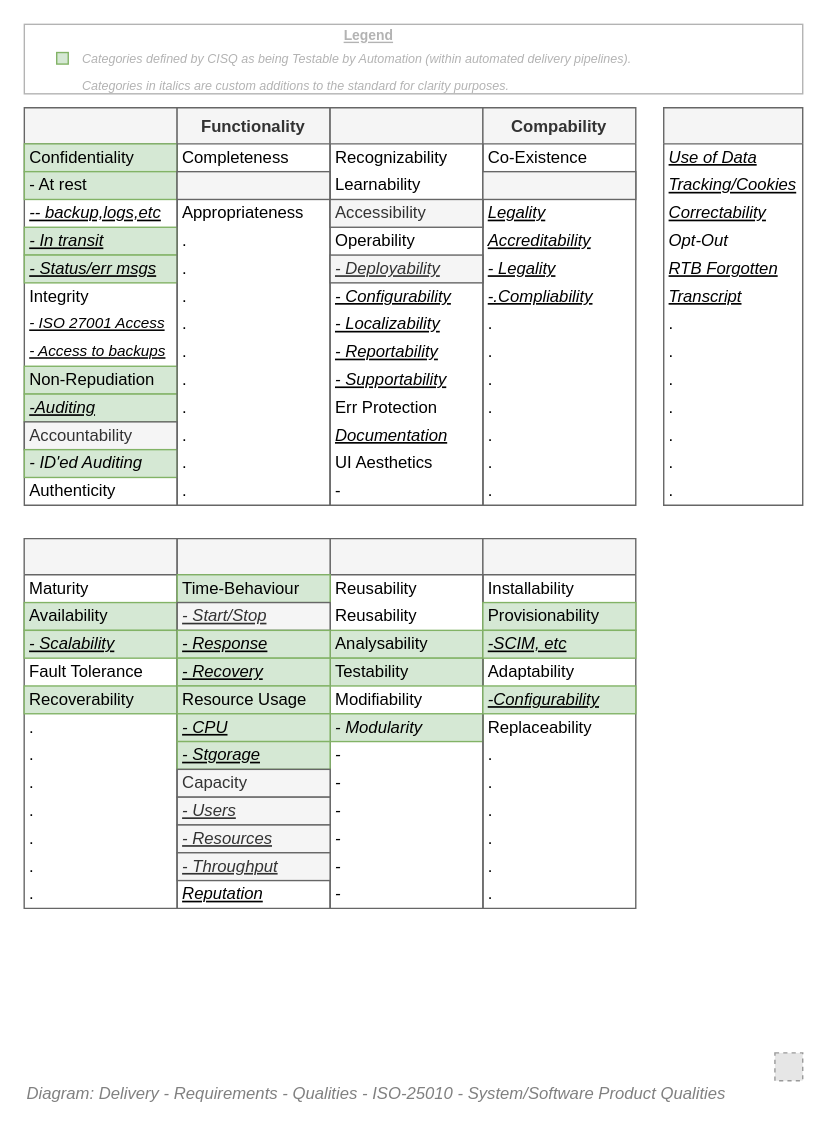
The diagram is 828 pixels wide and 1133 high, and some of its shapes have lost their labels. Grey dashed boxes stand in for pictures. The shapes that lost their labels are listed below. From the top down, each one's box as (x1, y1, x2, y2) in pixels, then its label:
(176, 170, 330, 199): Correctness
(481, 170, 636, 199): Interopability
(23, 106, 177, 505): Security
(329, 106, 483, 505): Usability
(662, 106, 803, 505): Privacy
(23, 537, 177, 908): Reliability
(176, 537, 330, 908): Performance
(329, 537, 483, 908): Maintability
(481, 537, 636, 908): Portability
